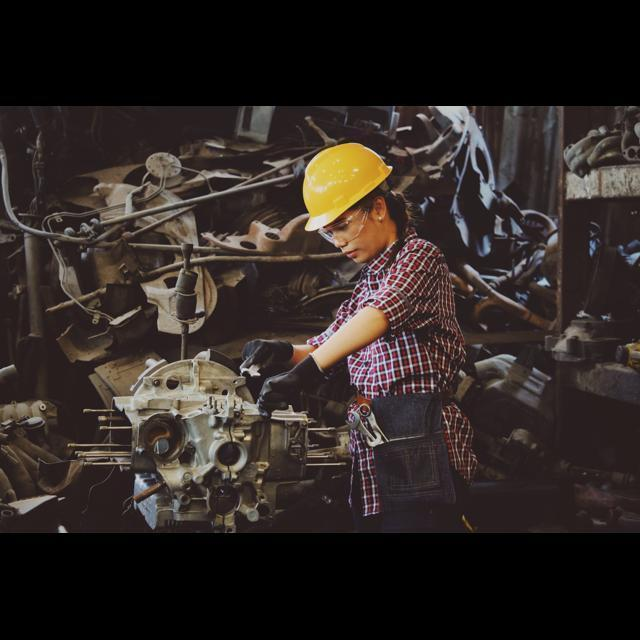helmet: (291, 134, 393, 238)
